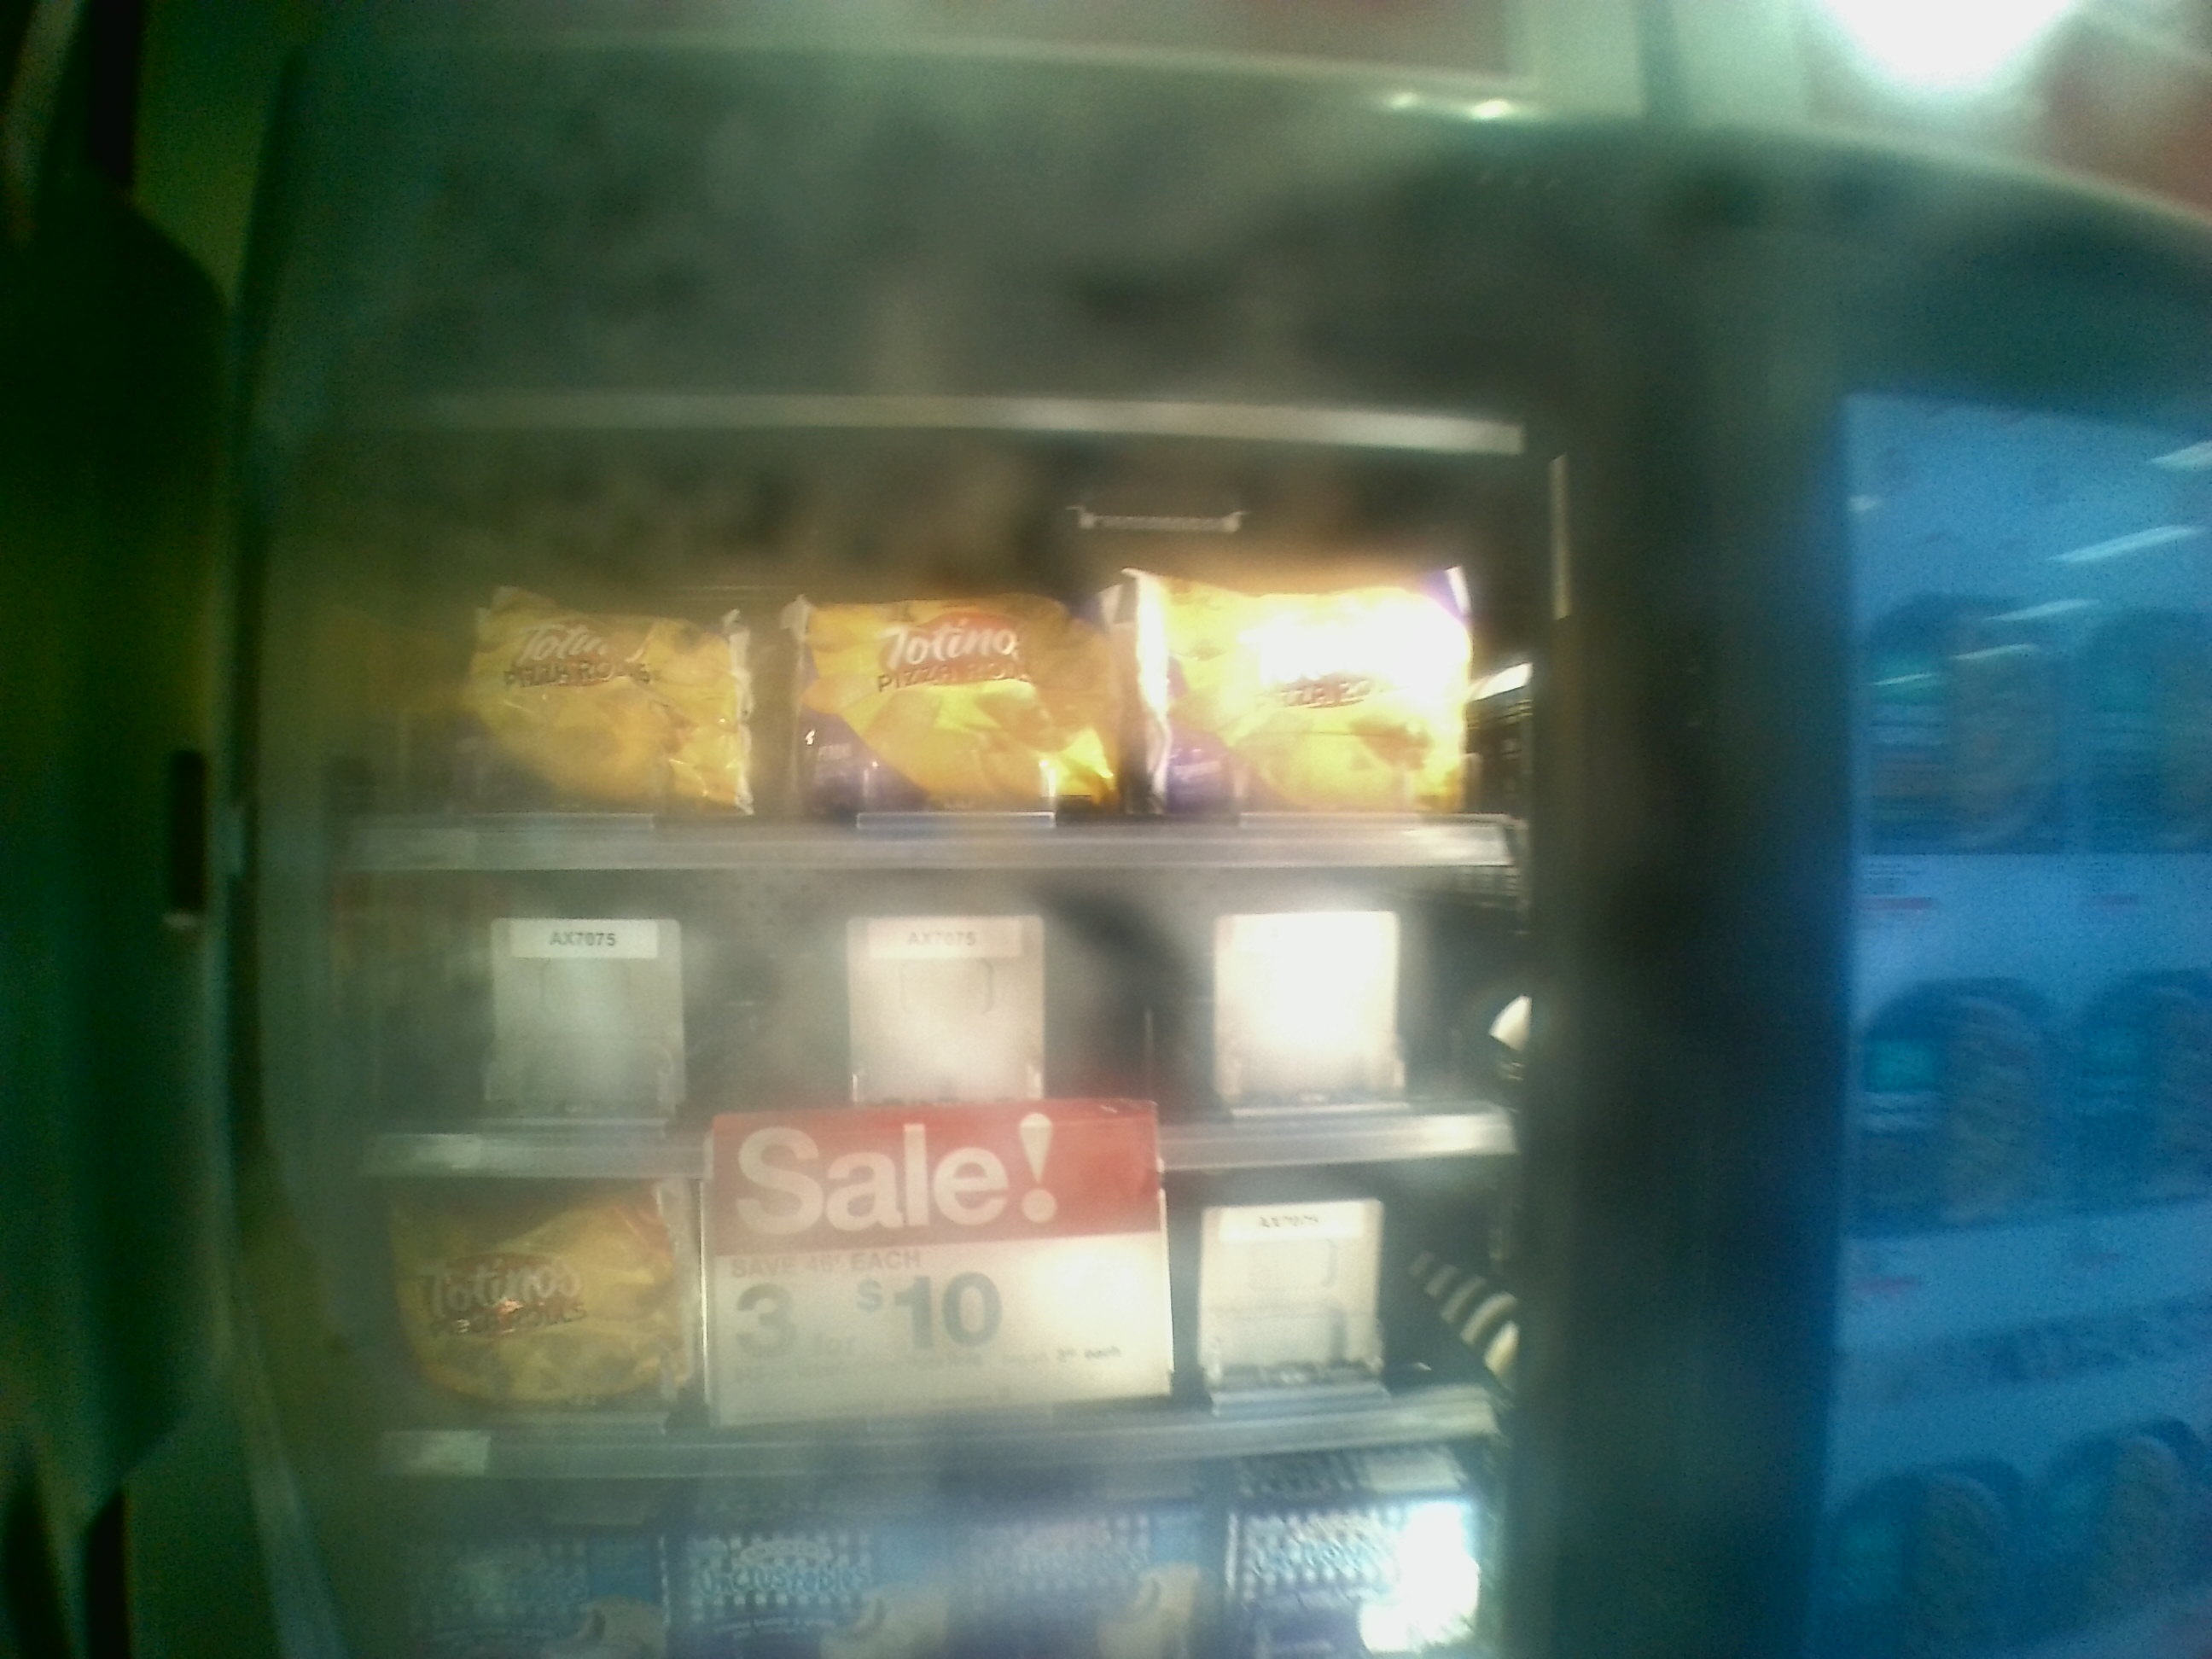shelf: (345, 392, 1505, 871), (348, 873, 1521, 1188)
